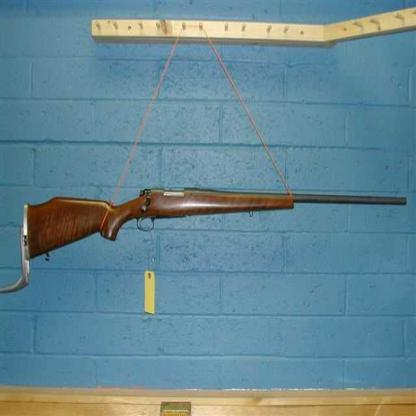rifle: (7, 166, 414, 259)
